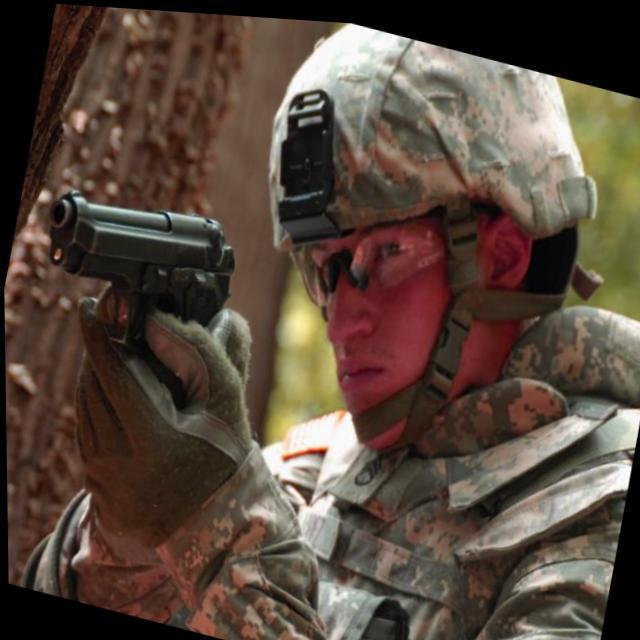weapon: (26, 173, 247, 373)
